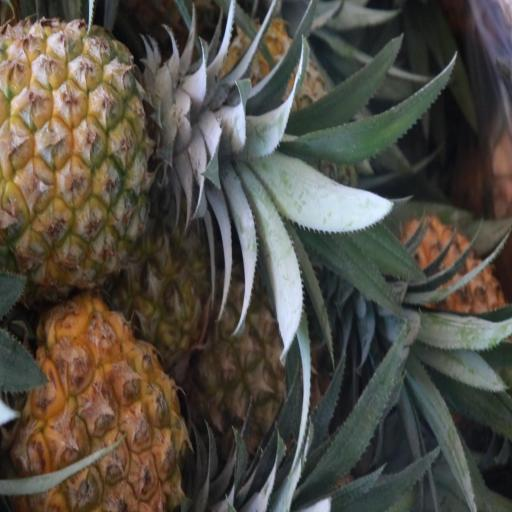Pineapple - v8 v1: (0, 24, 163, 285), (12, 302, 181, 510), (192, 270, 318, 464)
